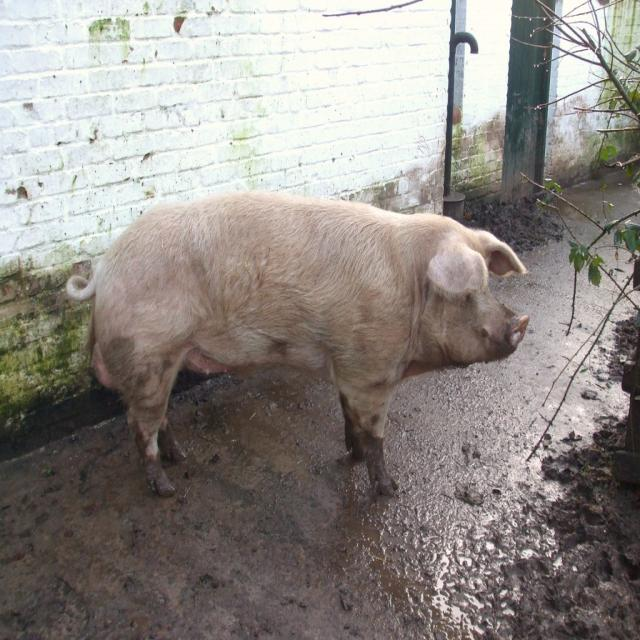Pig: (68, 189, 530, 500)
